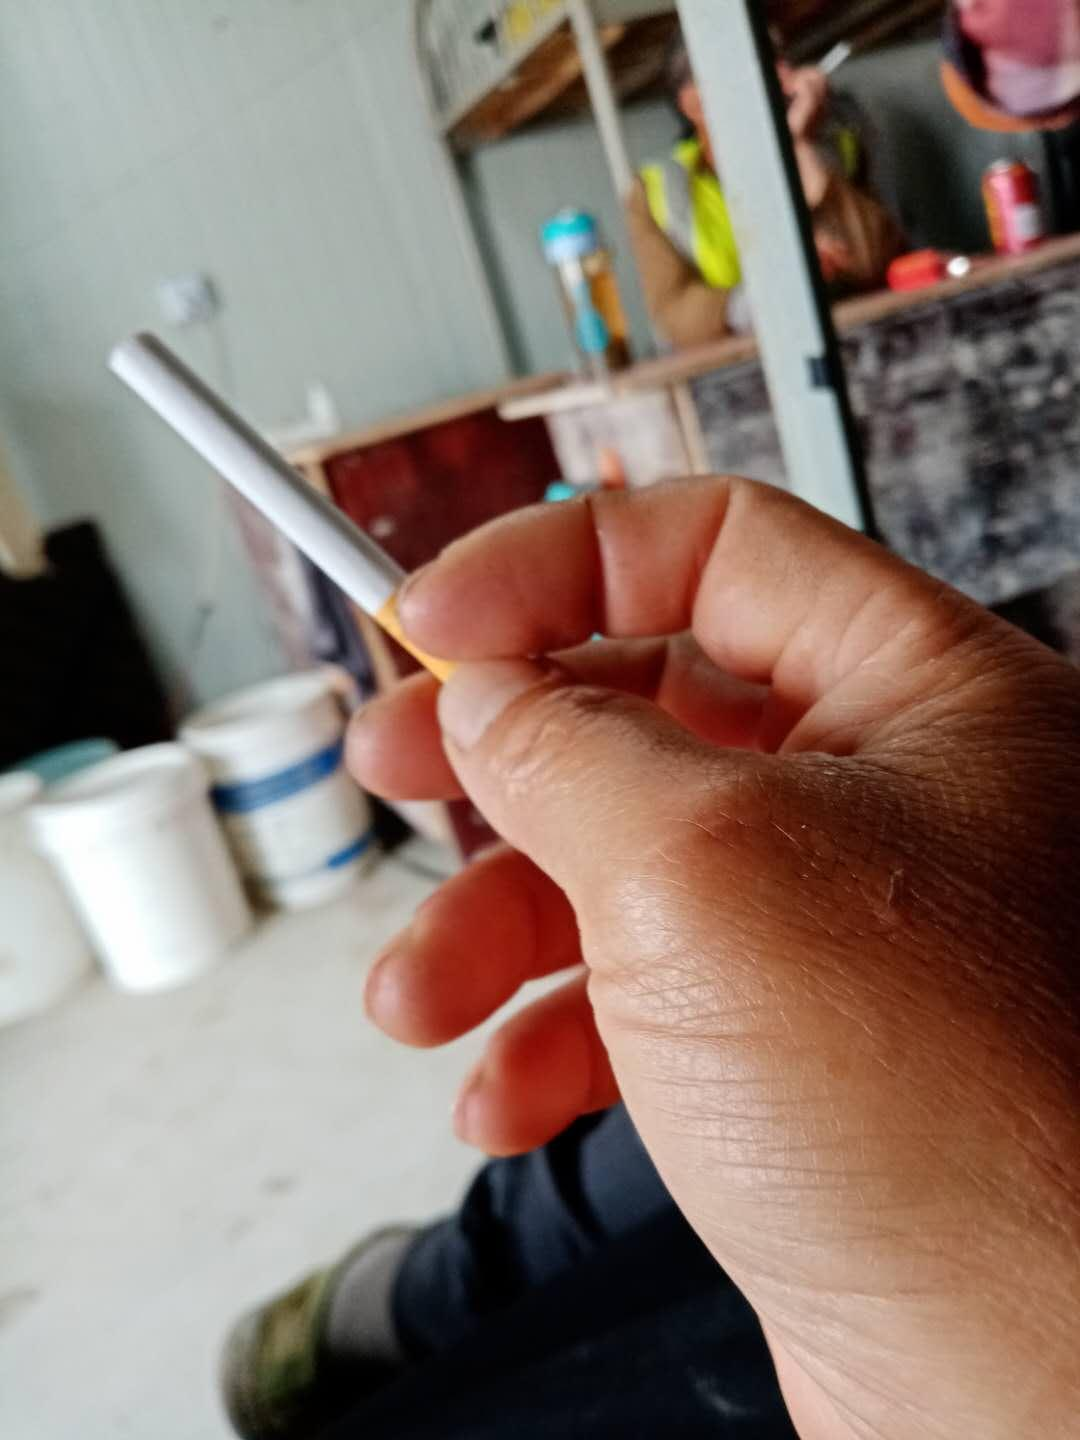Cigarette: (101, 330, 491, 692)
